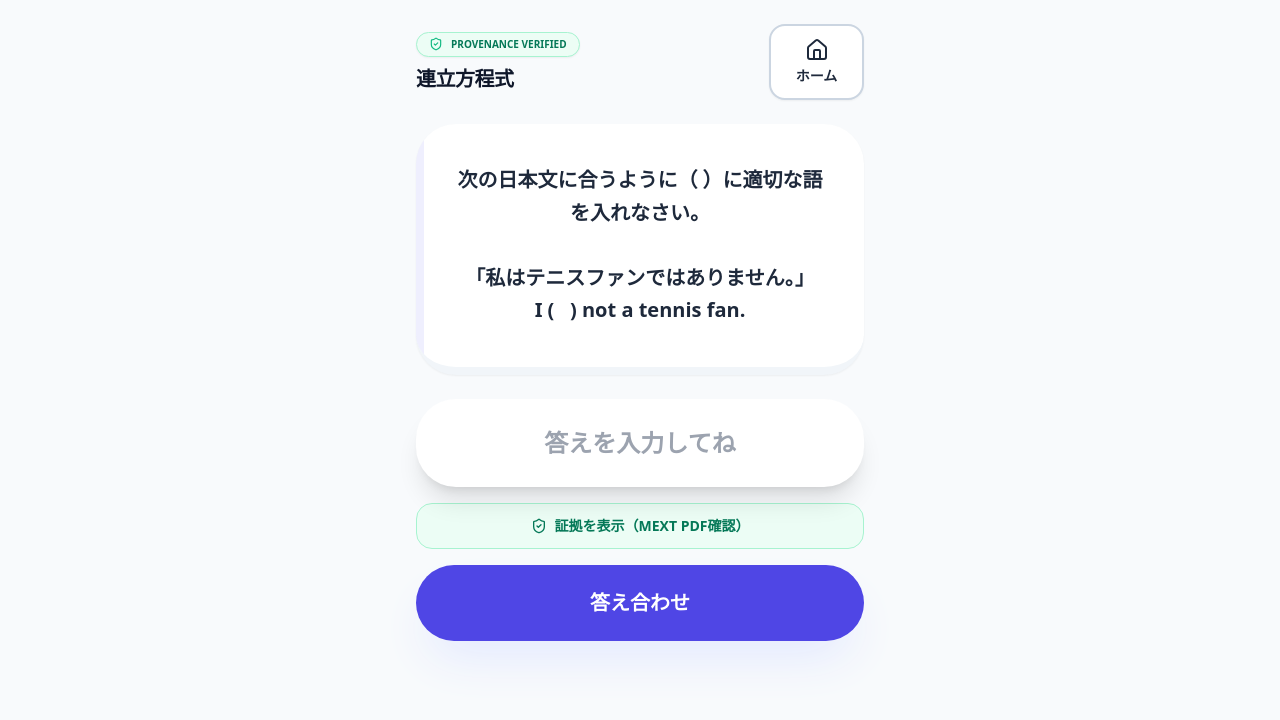
Test: Quiz コンポーネント › クイズ画面（screen="quiz"） › インタラクション: 「証拠を表示」ボタンクリックで Evidence Viewer が開く
The image size is (1280, 720).
What coordinates should you click on to do the following:
click the button "証拠を表示（MEXT PDF確認）"
I would click on:
 (640, 526)
Its box is [416, 502, 864, 548].
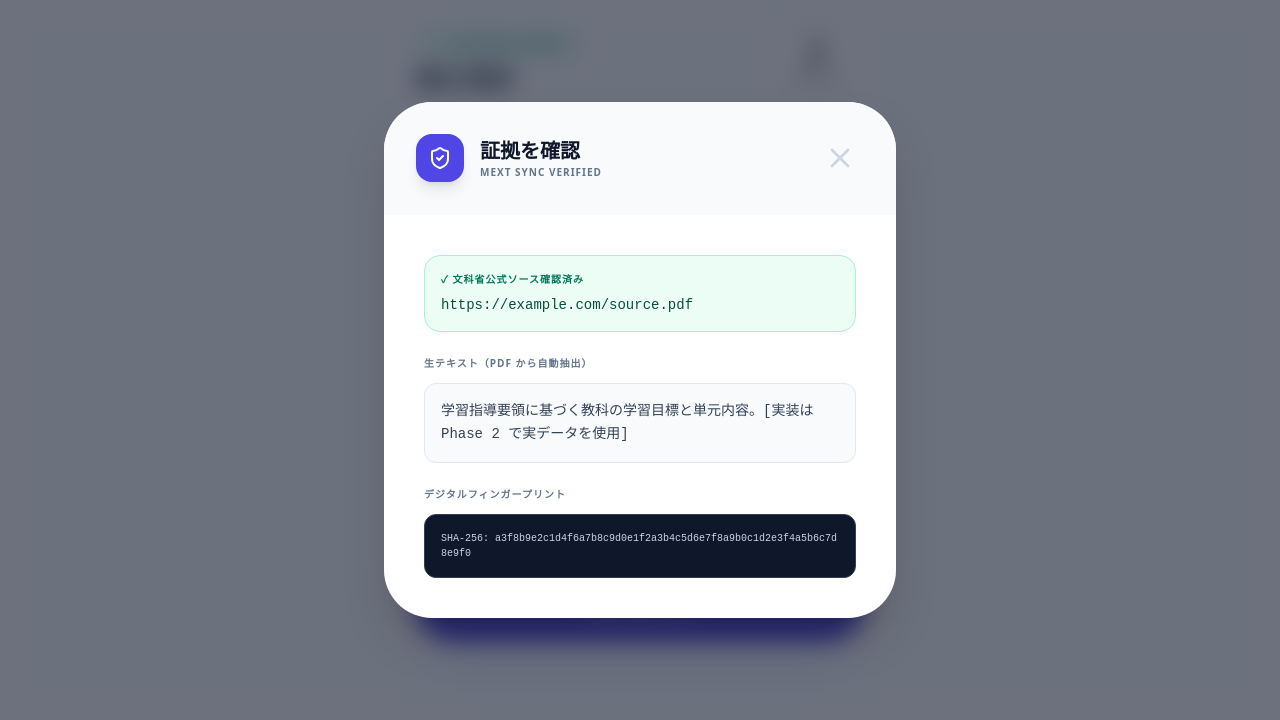
Expected: the heading "証拠を確認" is shown, [480, 137, 580, 164]
